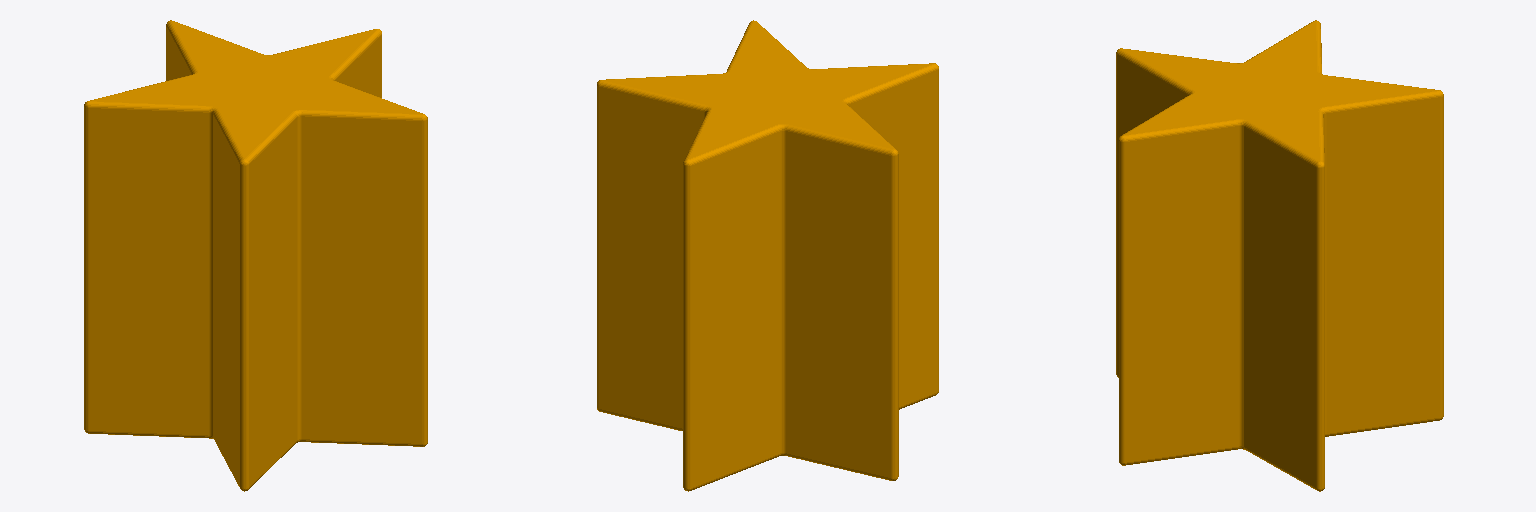
robot.urdf — object:
<?xml version="1.0"?>
<robot name="object">
  <link name="object">
    <visual>
      <origin xyz="0 0 0"/>
      <geometry>
        <mesh filename="pentaprism.obj" scale=".001 .001 .001"/>
      </geometry>
    </visual>
    <collision>
      <origin xyz="0 0 0"/>
      <geometry>
        <mesh filename="pentaprism.obj" scale=".001 .001 .001"/>
      </geometry>
    </collision>
    <inertial>
      <density value="567.0"/>
    </inertial>
  </link>
</robot>

--- What the picture shows (computed from the rendered views, not written in the file) ---
The picture shows the robot from 3 angles, left to right: view 1: azimuth 30°, elevation 25°; view 2: azimuth 150°, elevation 25°; view 3: azimuth 270°, elevation 25°; orthographic projection.
Robot: object — 1 links, 0 joints (none); root link object; default pose: every joint at zero.
Links seen in each view (by area): view 1: object; view 2: object; view 3: object.
Boxes of the visible links, bbox=[...] form: object: bbox=[84, 20, 427, 491]; object: bbox=[597, 20, 938, 491]; object: bbox=[1116, 20, 1443, 491].
Size in the robot's own frame: 0.0471 by 0.045 by 0.05 metres.
1 mesh visuals loaded from 1 distinct referenced files (1 OBJ).